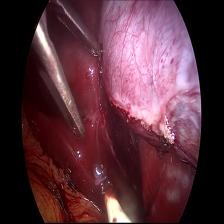Grasper: (34, 1, 104, 141)
Hook: (91, 169, 133, 224)
